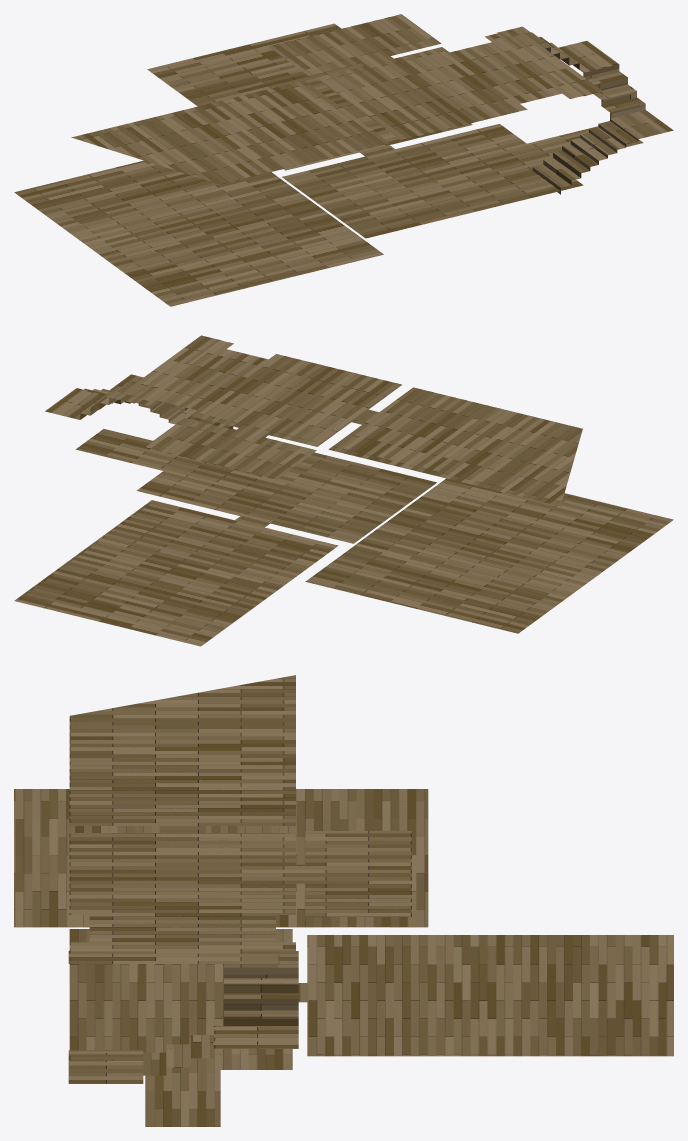
The model's file is podea.fbx.
3 renders of one model, top to bottom at view 1: azimuth 30°, elevation 25°; view 2: azimuth 150°, elevation 25°; view 3: azimuth 270°, elevation 25°, orthographic. The views are drawn at different scales.
Parts seen in each view (by area): view 1: Plane.001; view 2: Plane.001; view 3: Plane.001.
Part boxes in pixels (x1,y1,x2,y2): Plane.001: (14,14,673,306); Plane.001: (14,335,673,646); Plane.001: (14,675,673,1126).
Bounding box in the file's own units: 2146 × 364 × 1766.
Materials: 1 (1 with a texture image).
